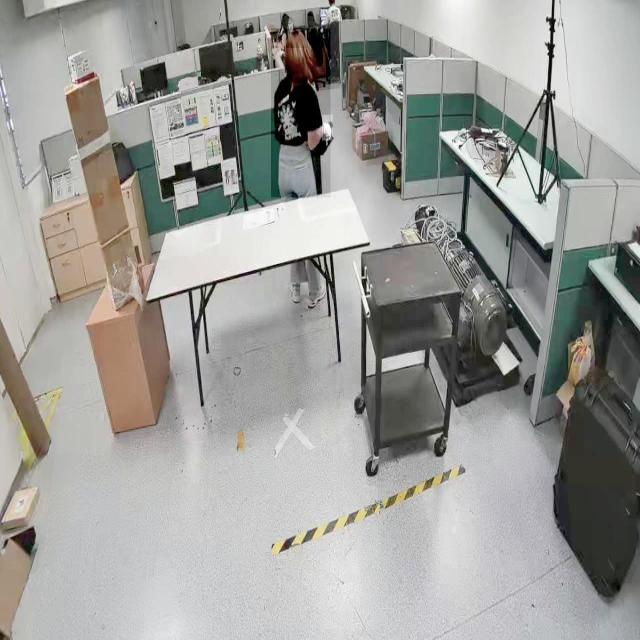hand_glove: (322, 115, 333, 141)
head_nohelmet: (284, 28, 308, 49), (306, 10, 314, 17), (281, 12, 289, 18)
person: (271, 28, 331, 198)
shoes: (305, 277, 329, 311), (286, 278, 304, 310)
